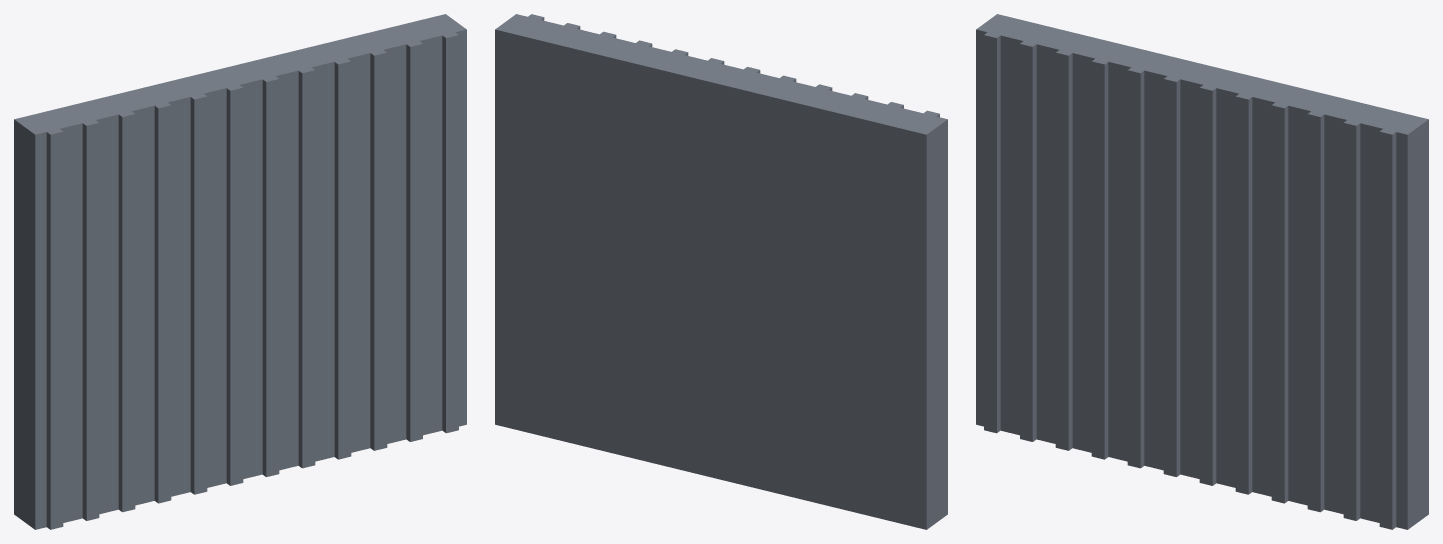
Rendered from cw_wall.glb.
3 views of the same model, side by side, from view 1: azimuth 30°, elevation 25°; view 2: azimuth 150°, elevation 25°; view 3: azimuth 330°, elevation 25° (orthographic).
Visible parts, largest first — view 1: city_cw_wall; view 2: city_cw_wall; view 3: city_cw_wall.
Boxes of the visible parts, x1=… form: city_cw_wall: x1=14, y1=14, x2=466, y2=529; city_cw_wall: x1=495, y1=14, x2=947, y2=529; city_cw_wall: x1=976, y1=14, x2=1428, y2=529.
Bounding box in the file's own units: 4 × 3.5 × 0.4.
Materials: 1 (1 with a texture image).
